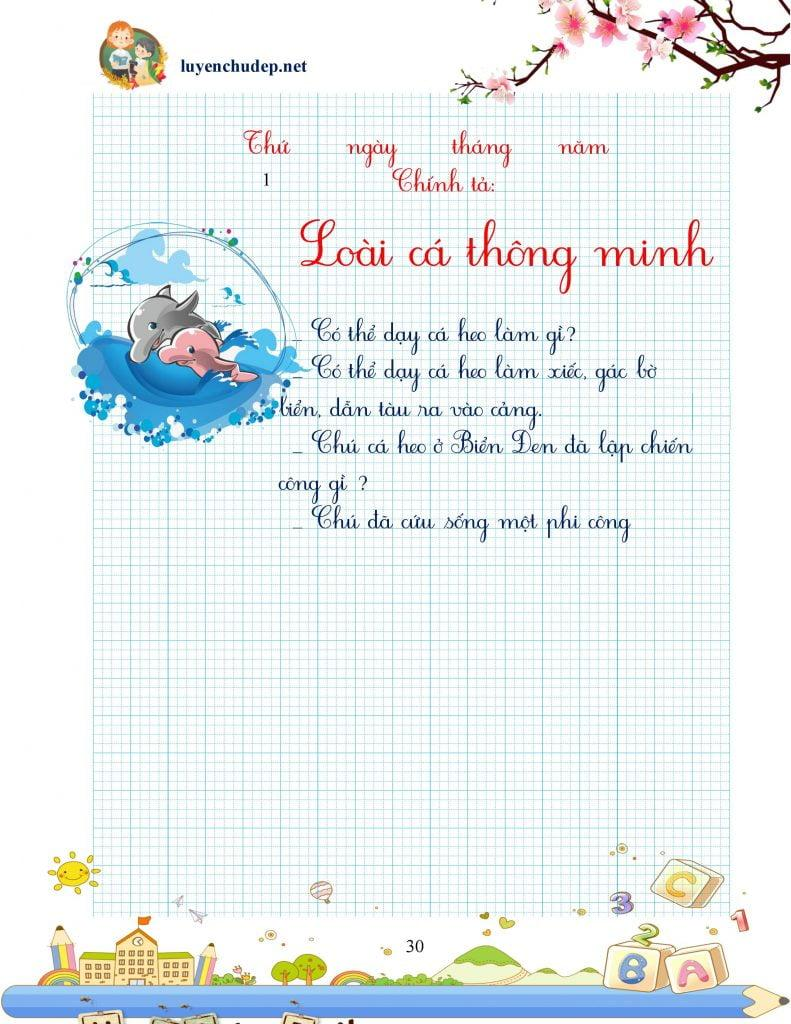text: (296, 213, 719, 299), (289, 424, 696, 467), (309, 350, 660, 397), (289, 501, 634, 544), (289, 314, 579, 359), (273, 390, 543, 431), (276, 471, 369, 506), (177, 57, 309, 80), (389, 166, 497, 194), (450, 127, 513, 171), (344, 136, 401, 170), (241, 127, 294, 157), (557, 140, 610, 157), (403, 933, 424, 957), (259, 167, 274, 190)
